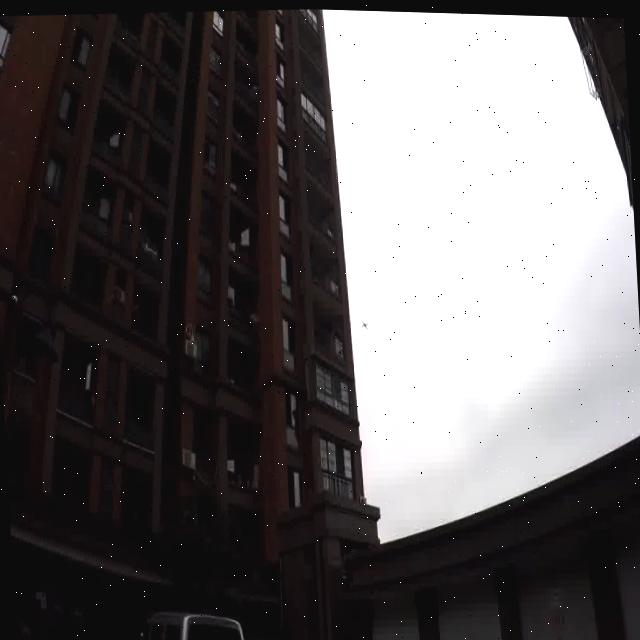drone: (358, 313, 370, 331)
